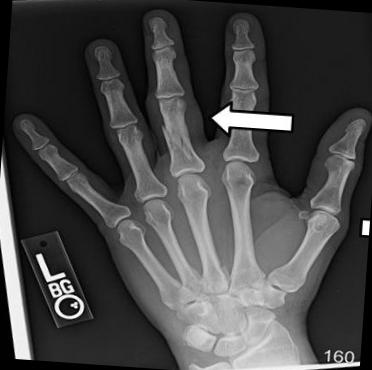fracture: (158, 118, 198, 162)
